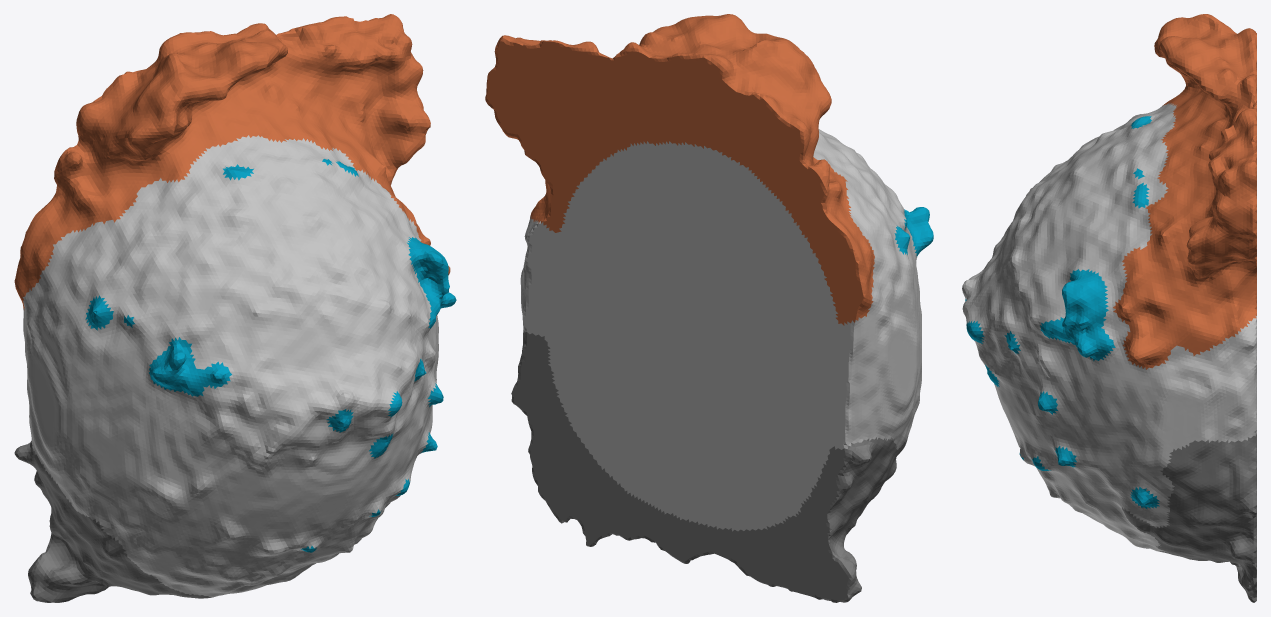
3 renders of one model, left to right at view 1: azimuth 30°, elevation 25°; view 2: azimuth 150°, elevation 25°; view 3: azimuth 270°, elevation 25°, orthographic. The views are drawn at different scales.
Size of the model in its own units: 95.96 by 126 by 64.71.
